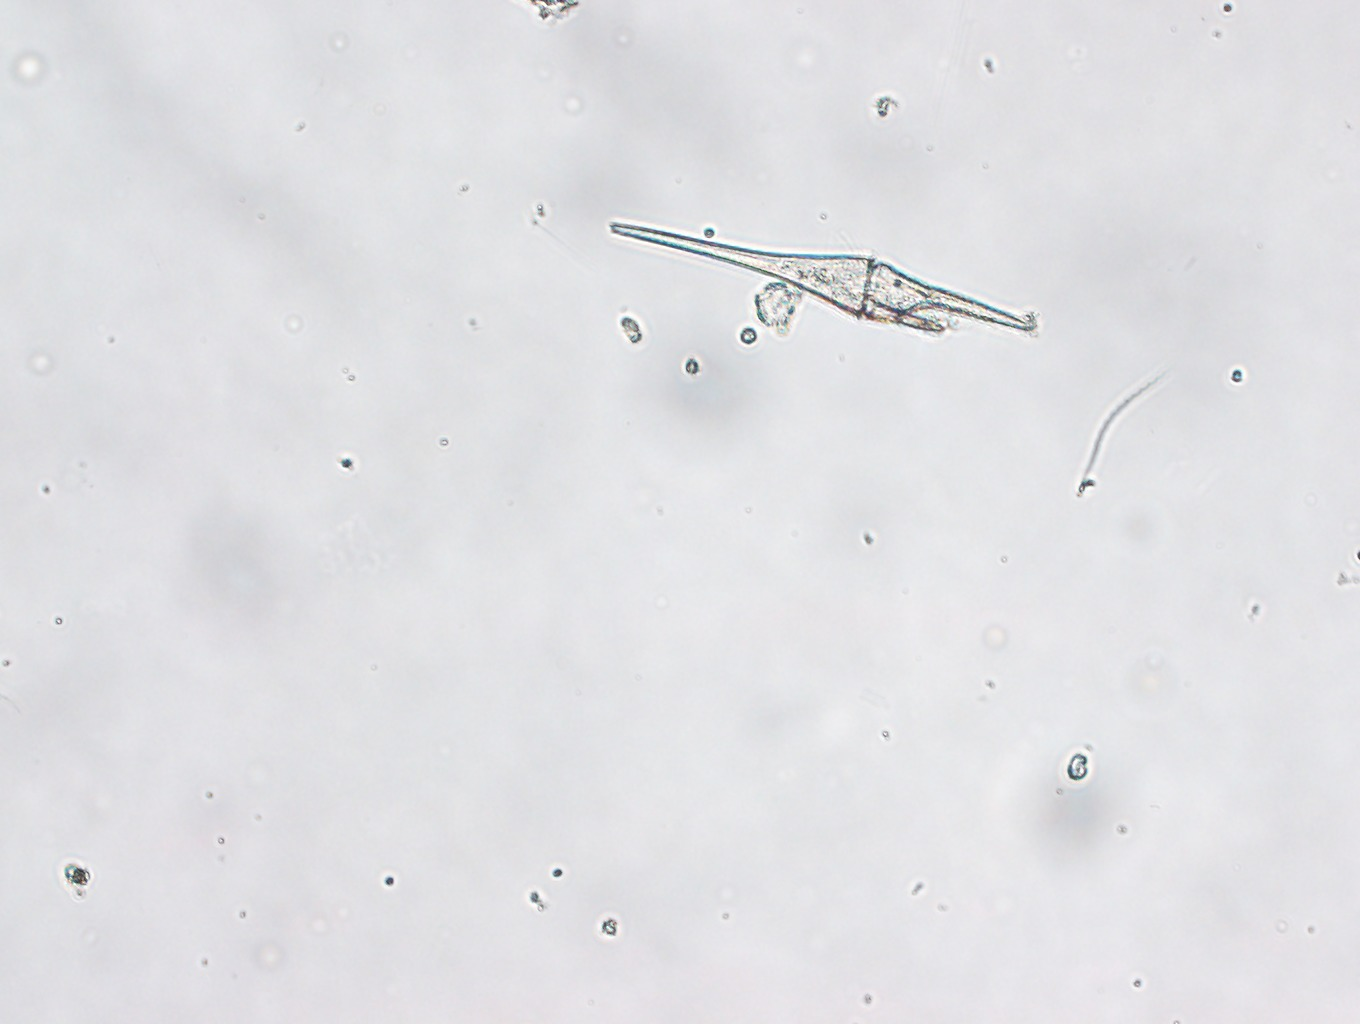ceratium furca: (609, 221, 1041, 333)
